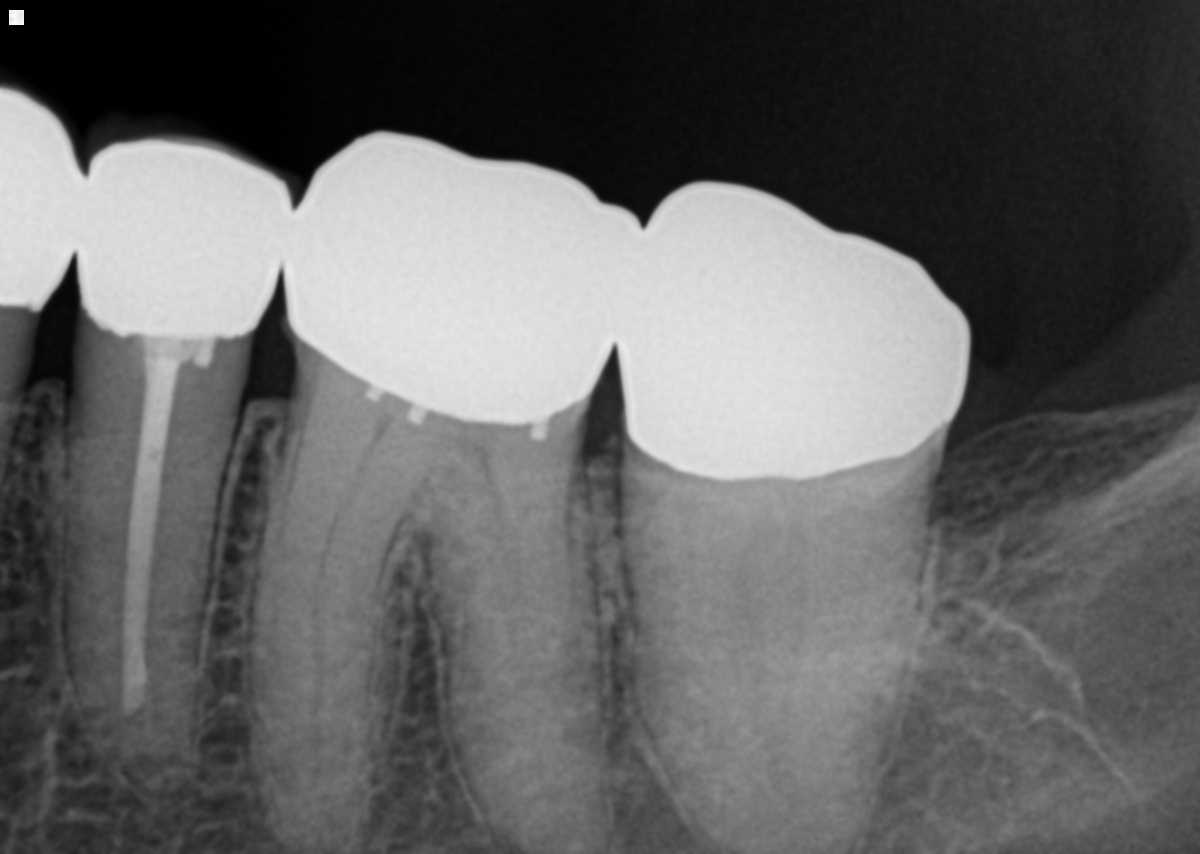Distal Root: (422, 421, 616, 854), (773, 443, 938, 848)
Main Root: (57, 372, 249, 800)
Mesial Canal: (314, 413, 396, 798)
Mesial Root: (248, 387, 438, 854), (619, 453, 798, 848)
Root Canal Filling: (120, 380, 175, 718)
